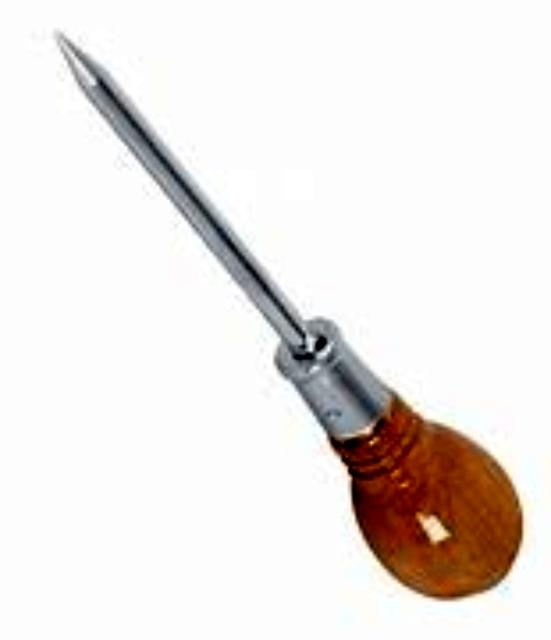ice pick: (54, 28, 530, 604)
